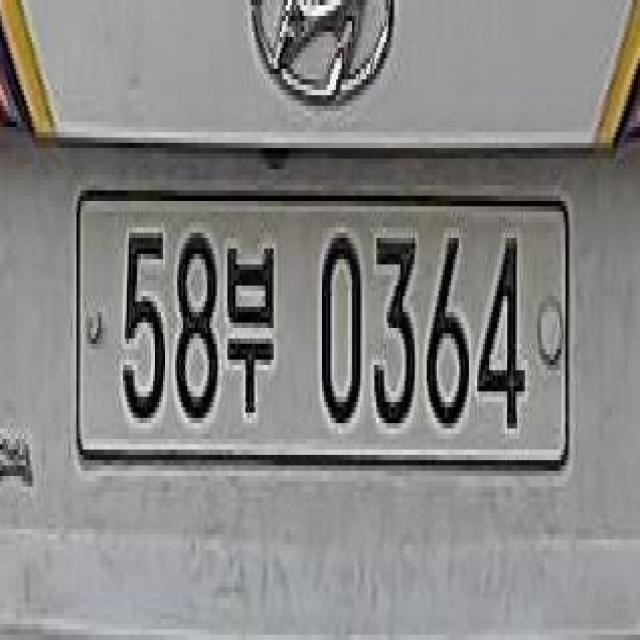0: (317, 214, 365, 431)
3: (372, 218, 419, 436)
4: (474, 220, 532, 430)
5: (120, 214, 168, 427)
6: (424, 220, 470, 434)
8: (172, 212, 220, 430)
bu: (224, 212, 280, 440)
license_plate: (70, 176, 576, 478)
